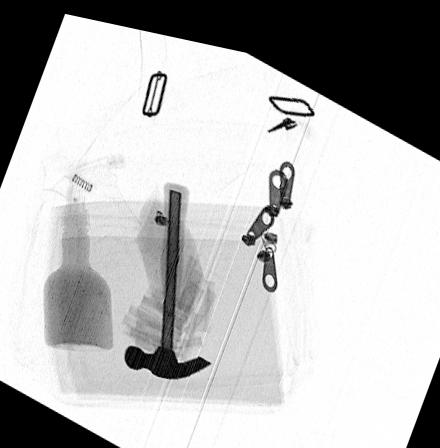Hammer: (122, 174, 212, 372)
